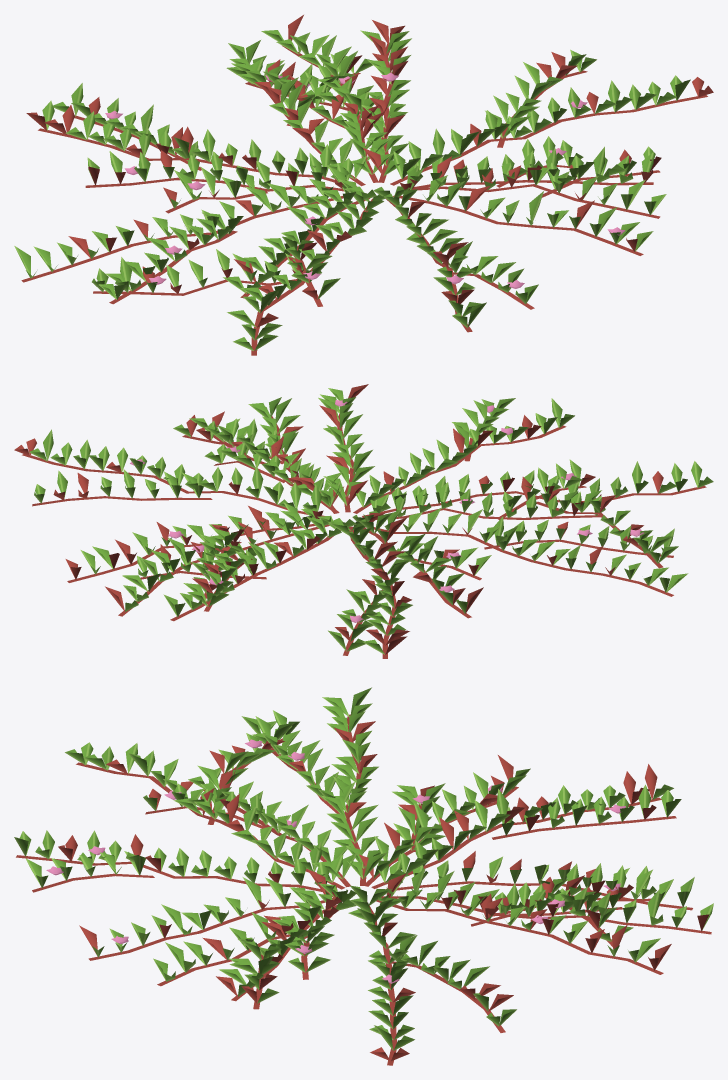
3 views of the same model, one above another, from view 1: azimuth 30°, elevation 25°; view 2: azimuth 150°, elevation 25°; view 3: azimuth 270°, elevation 25° (orthographic). The views are drawn at different scales.
Parts seen in each view (by area): view 1: foliage; view 2: foliage; view 3: foliage.
Boxes of the visible parts, x1=… form: foliage: x1=14, y1=15, x2=713, y2=355; foliage: x1=14, y1=384, x2=713, y2=658; foliage: x1=14, y1=687, x2=713, y2=1065.
Size of the model in its own units: 1.69 by 0.0876 by 1.41.
Materials: 1 (1 with a texture image).
